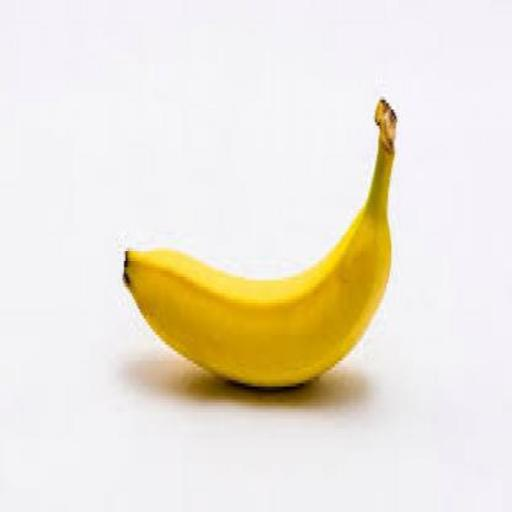biodegradable: (121, 93, 395, 389)
